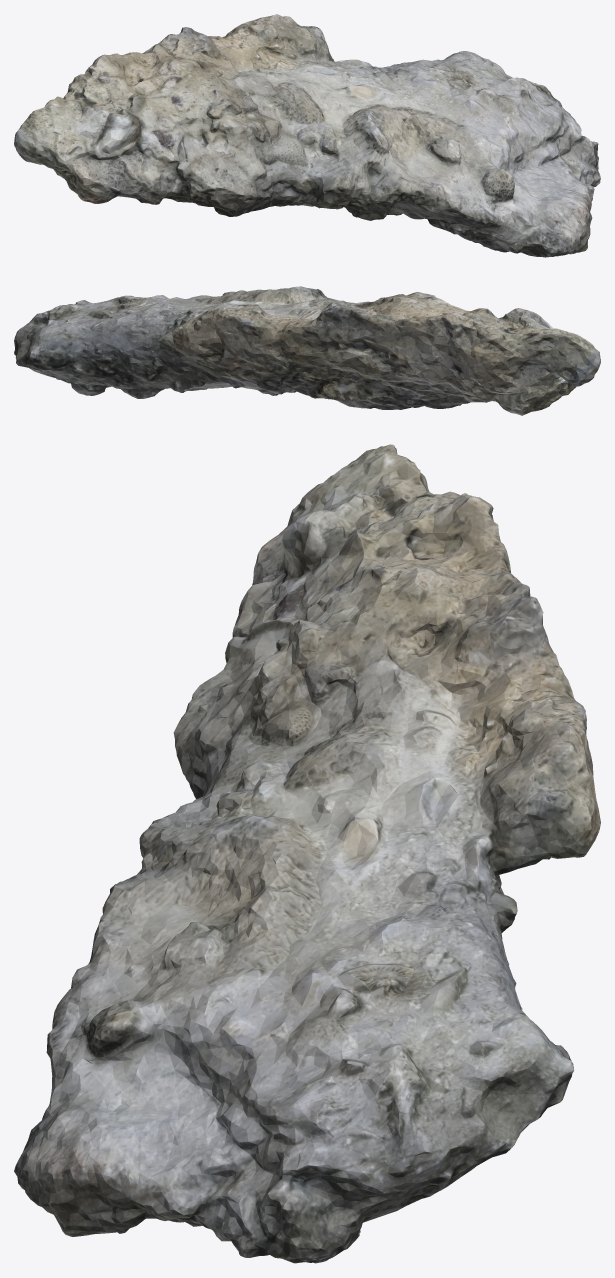
Rendered from PRI_Coral_Reef_10pc.obj.
3 views of the same model, one above another, from view 1: azimuth 30°, elevation 25°; view 2: azimuth 150°, elevation 25°; view 3: azimuth 270°, elevation 25° (orthographic). The views are drawn at different scales.
Visible parts, largest first — view 1: PRI_Coral_Reef; view 2: PRI_Coral_Reef; view 3: PRI_Coral_Reef.
Boxes of the visible parts, left/top/right/bottom form: PRI_Coral_Reef: left=14, top=14, right=600, bottom=257; PRI_Coral_Reef: left=14, top=286, right=600, bottom=415; PRI_Coral_Reef: left=14, top=444, right=600, bottom=1263.
Bounding box in the file's own units: 2 × 0.7256 × 0.955.
